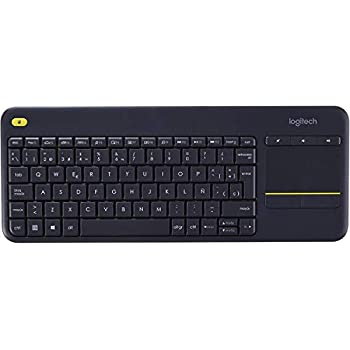logitech-keyboard-k400: (2, 103, 347, 247)
